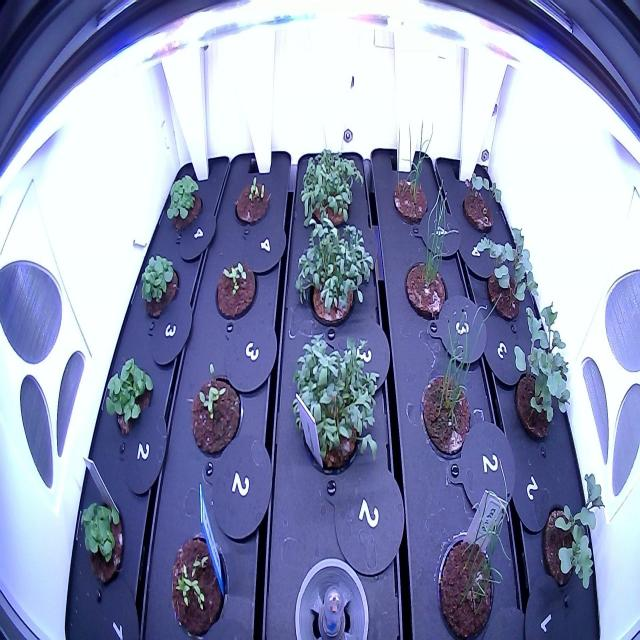germination: (161, 512, 232, 636), (185, 354, 250, 466), (207, 251, 261, 326), (458, 164, 508, 237), (230, 169, 274, 231)
